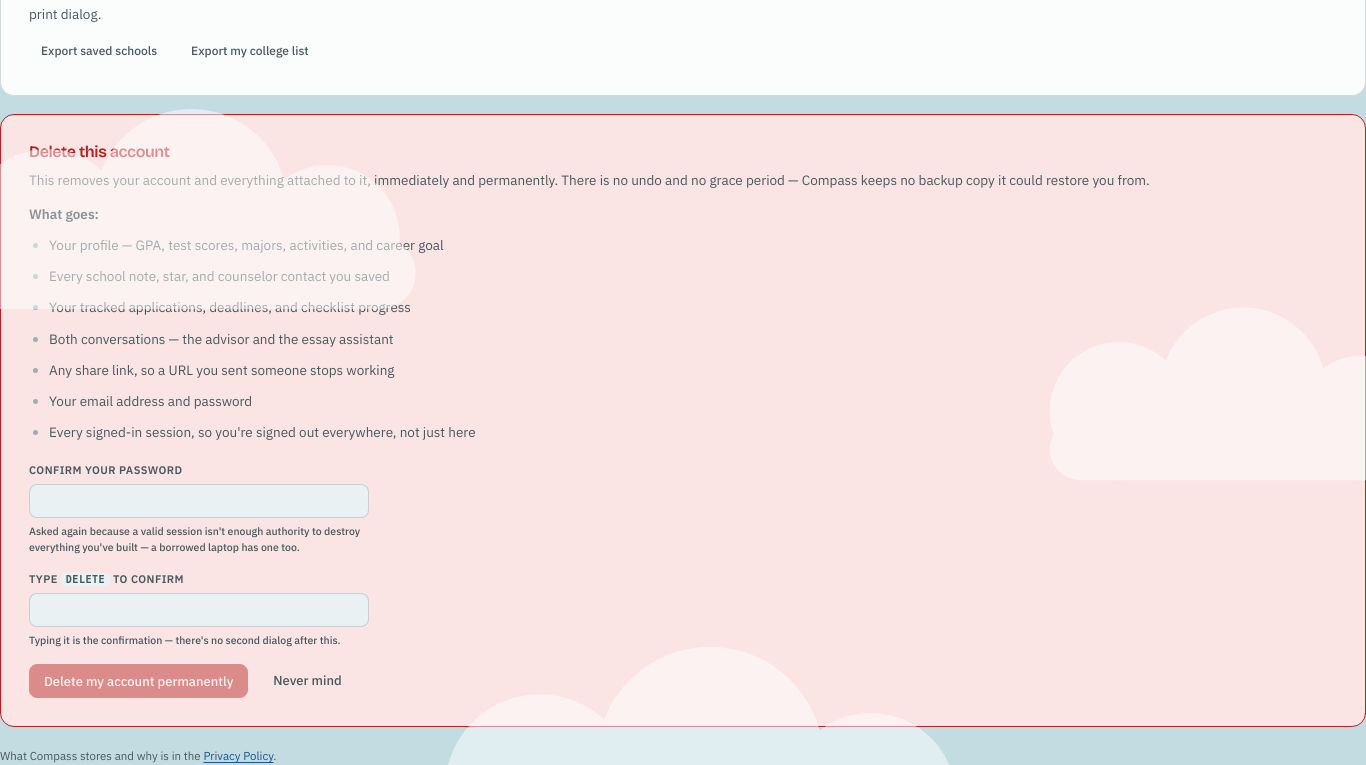
Scenario: deleting › surfaces a wrong password and lets you try again
(page scrolled)
In the field labelled "Type DELETE to confirm": (199, 610) x1=29 y1=593 x2=369 y2=627, type "DELETE"
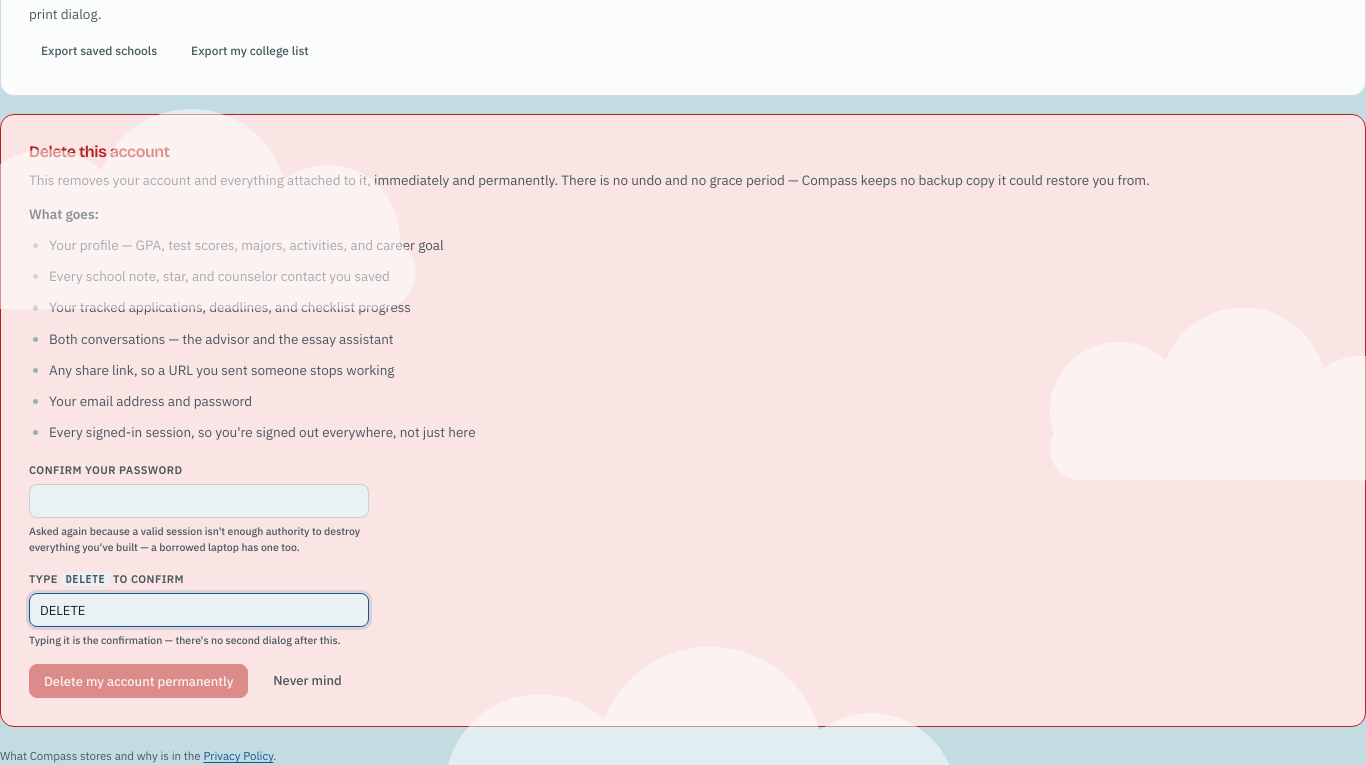
In the password field labelled "Confirm your password": (199, 501) x1=29 y1=484 x2=369 y2=518, type "wrong"
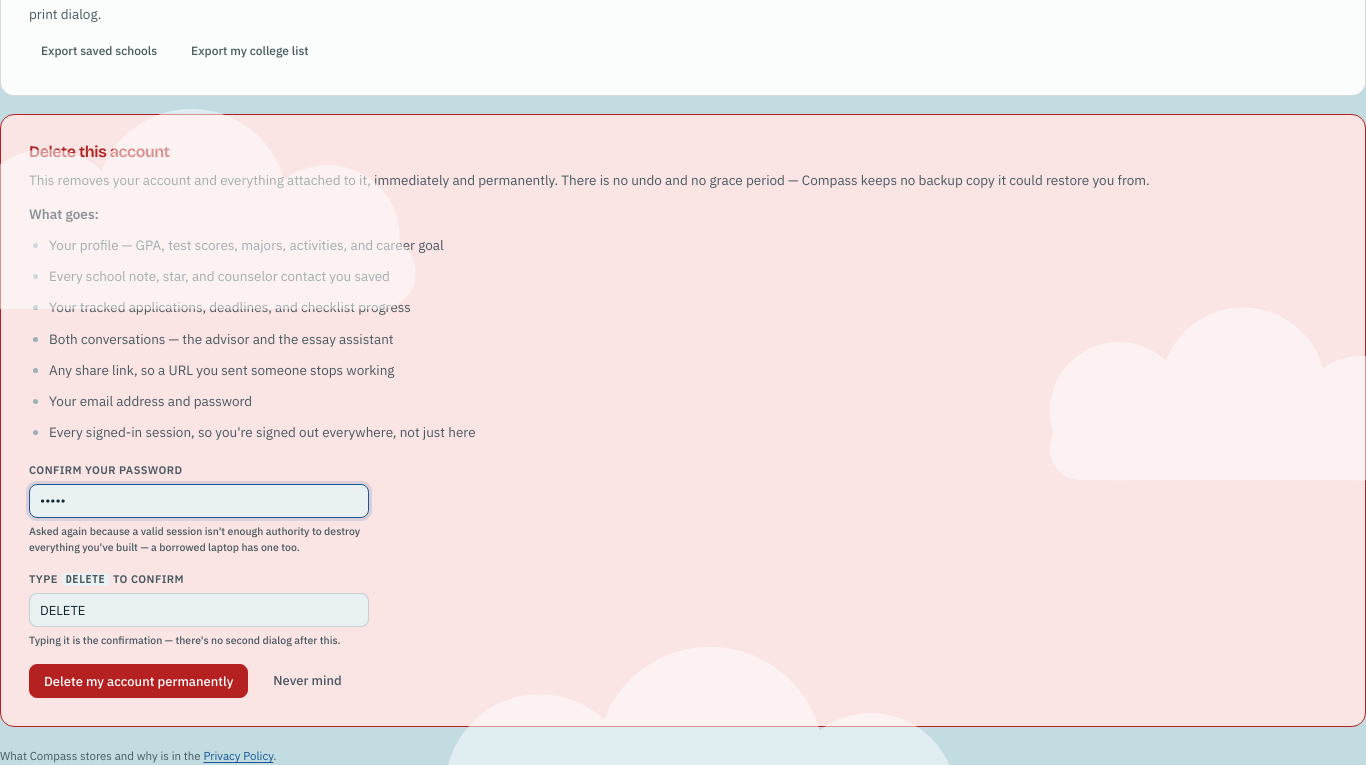
Click the button "Delete my account permanently": (139, 682) x1=29 y1=664 x2=248 y2=698
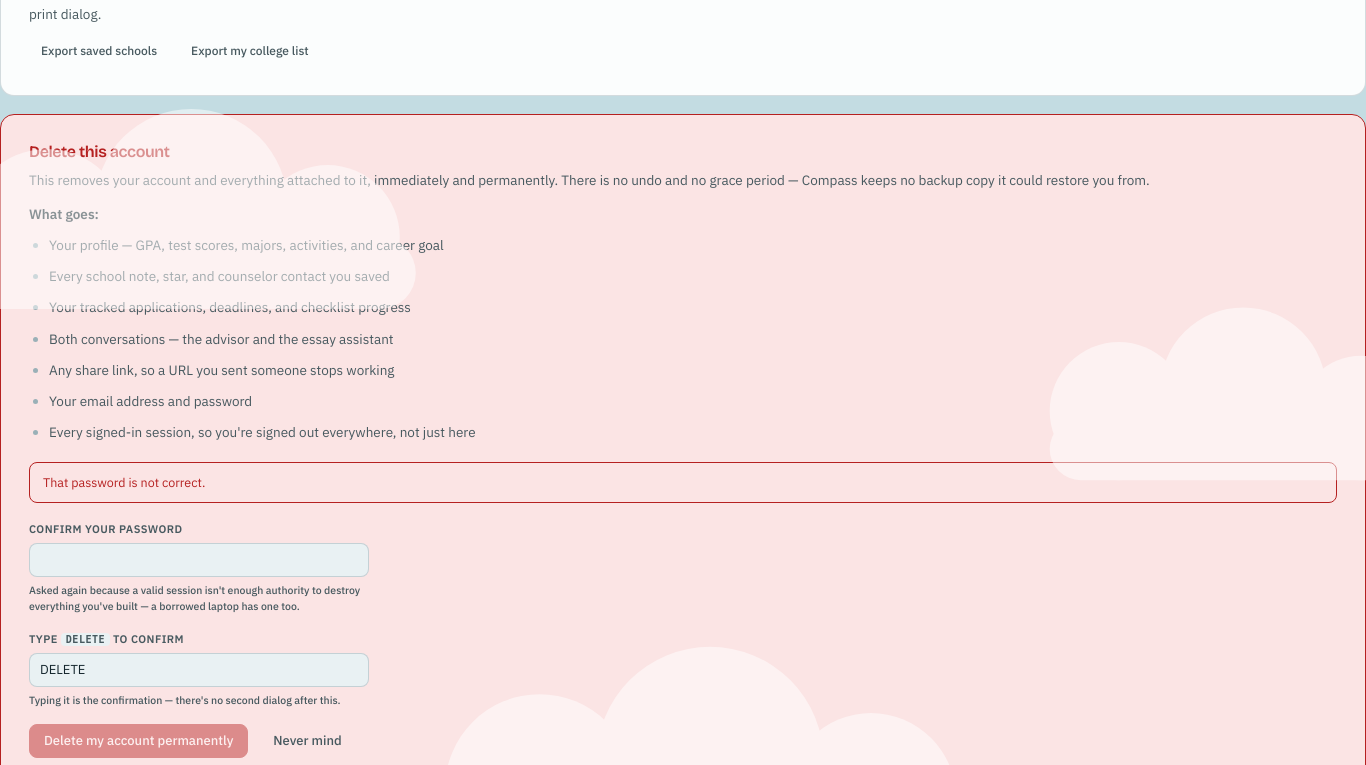
expect the message reads "That password is not correct.": met, box x1=43 y1=474 x2=205 y2=490
expect the password field labelled "Confirm your password" is empty: met, box x1=29 y1=543 x2=369 y2=577
